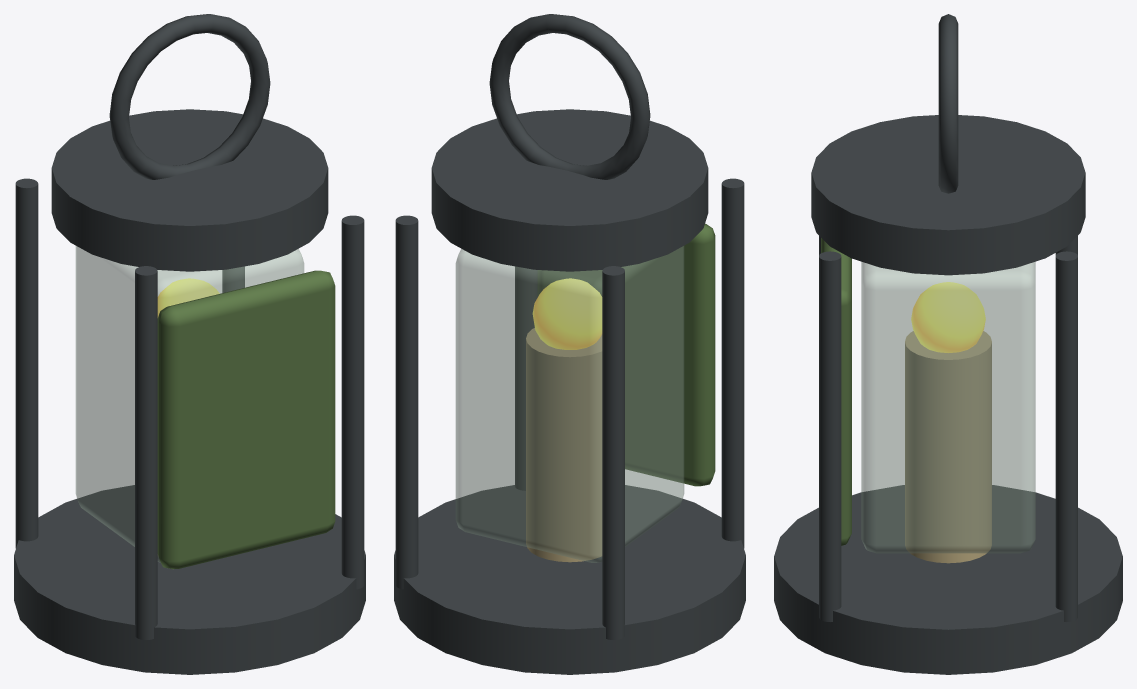
File: undercity-sewers-and-thieves-den-signal-lantern-2bf1ebd0__27245.glb
3 views of the same model, side by side, from view 1: azimuth 30°, elevation 25°; view 2: azimuth 150°, elevation 25°; view 3: azimuth 270°, elevation 25° (orthographic).
Parts seen in each view (by area): view 1: signal-lantern; view 2: signal-lantern; view 3: signal-lantern.
Boxes of the visible parts, x1,y1,x2,y2 form: signal-lantern: (14, 14, 365, 674); signal-lantern: (394, 14, 745, 674); signal-lantern: (774, 14, 1122, 674).
Bounding box in the file's own units: 0.28 × 0.513 × 0.28.
